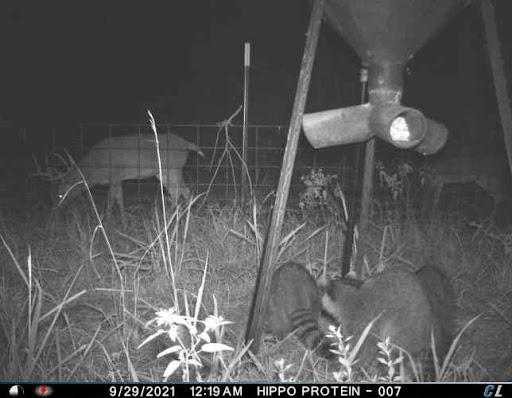Deer: (35, 124, 203, 222), (418, 140, 511, 226)
